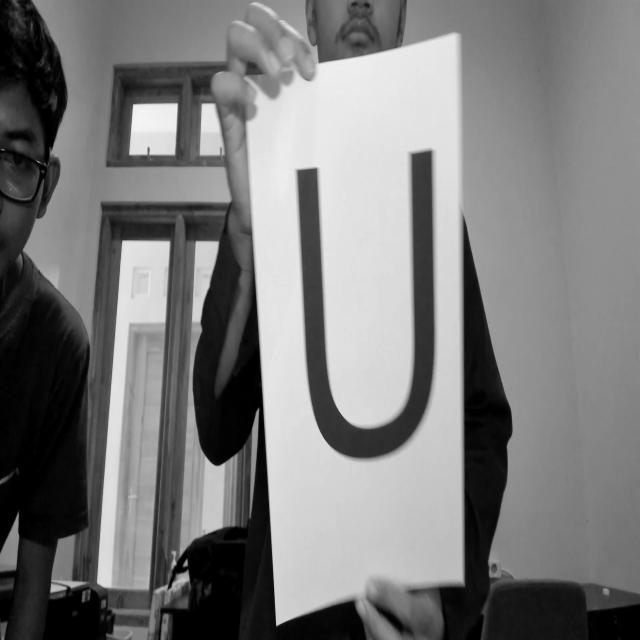u: (277, 135, 454, 480)
